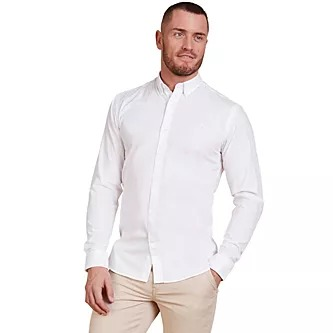C_shirt: (86, 70, 264, 283)
